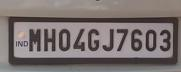0: (58, 28, 73, 52), (144, 28, 157, 52)
3: (158, 29, 172, 52)
4: (72, 27, 86, 53)
6: (130, 29, 143, 51)
7: (115, 27, 129, 53)
G: (87, 28, 103, 52)
H: (43, 27, 57, 53)
J: (101, 27, 115, 52)
M: (26, 27, 43, 52)
